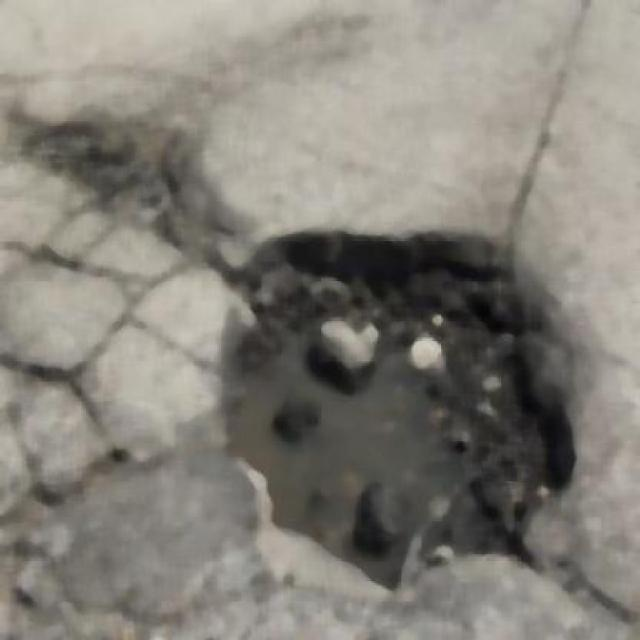Pothole: (227, 248, 584, 570)
